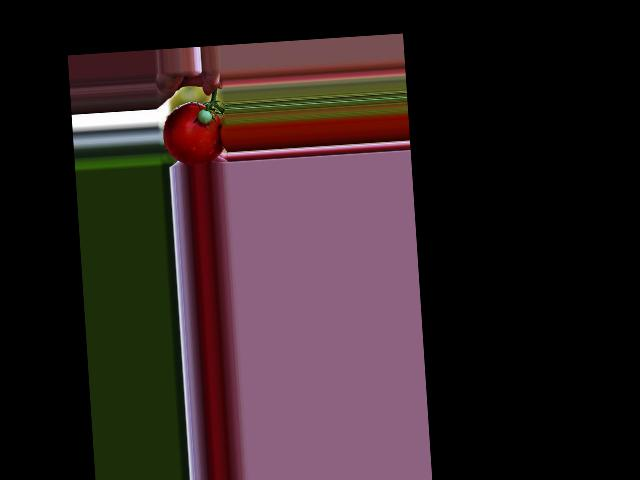tomato: (161, 99, 224, 167)
